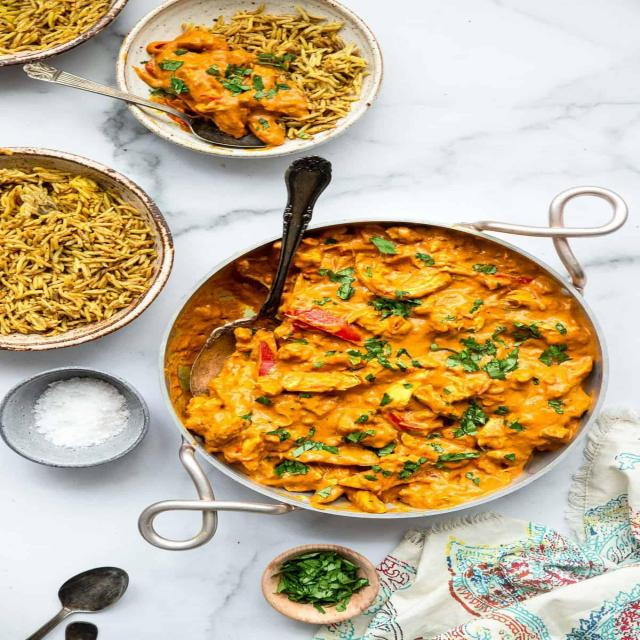chicken: (200, 250, 568, 503), (157, 42, 299, 127)
rice: (13, 163, 134, 341), (3, 7, 93, 48)
